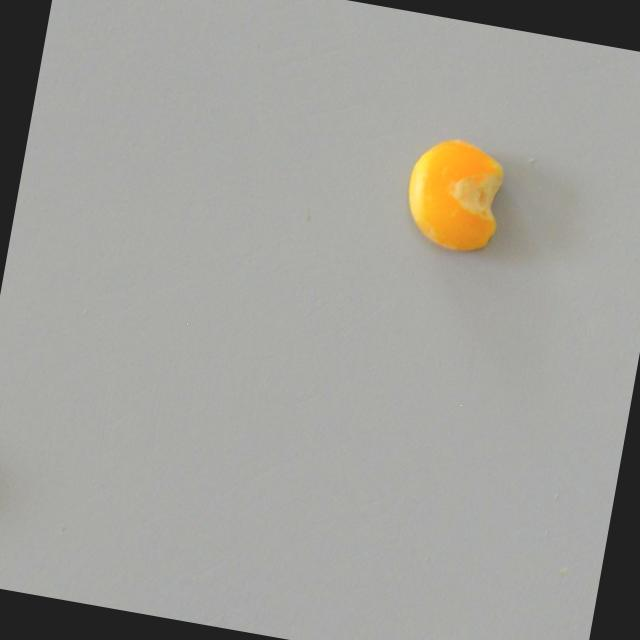no_desgerminado: (398, 132, 511, 257)
